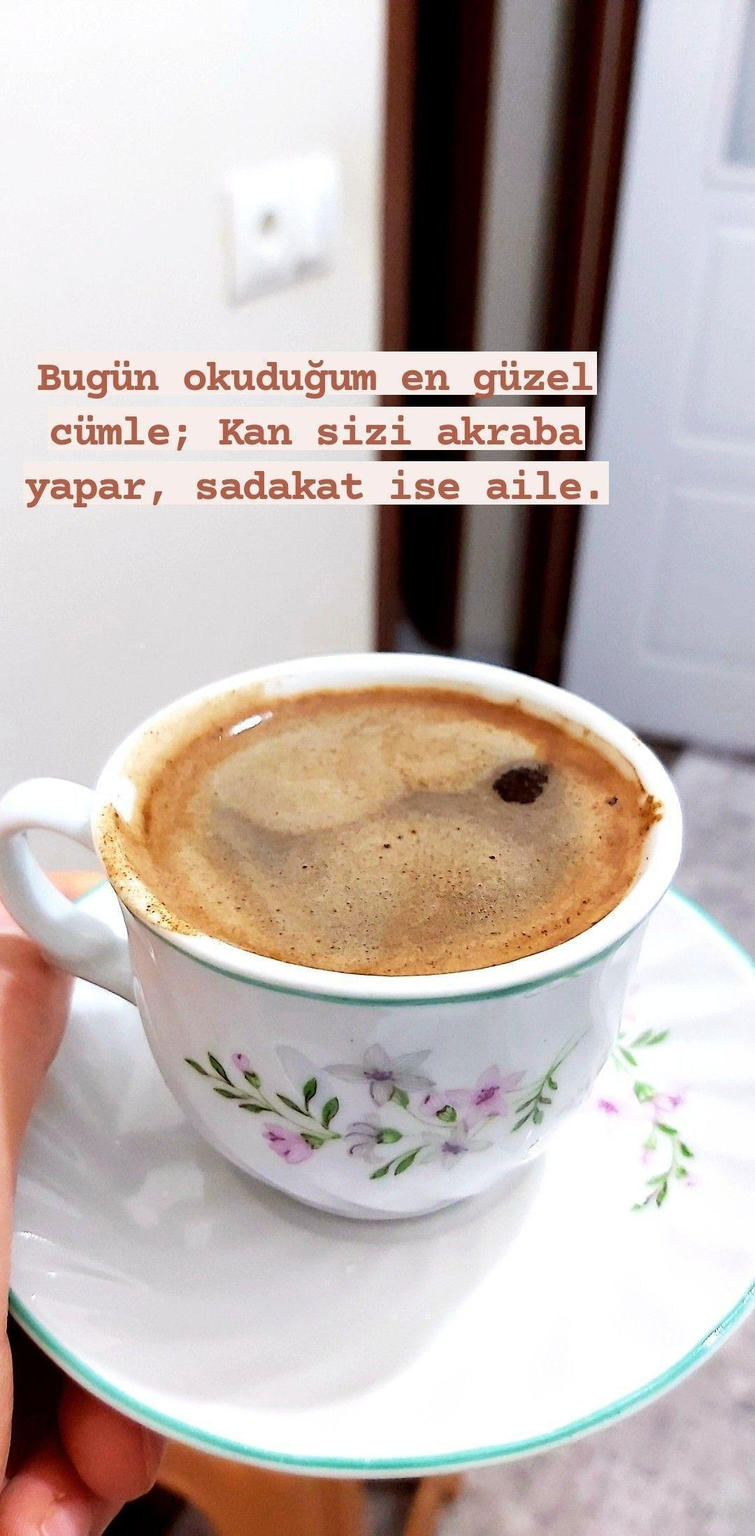cup-handle: (3, 649, 688, 1226)
